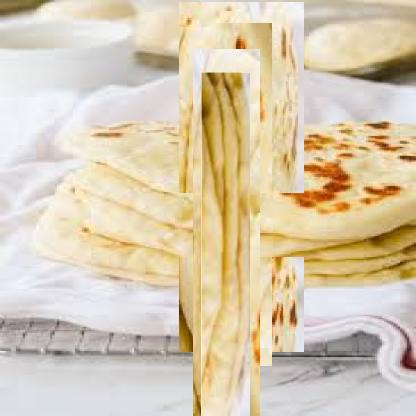naan: (122, 58, 360, 296), (114, 127, 338, 351), (118, 155, 333, 370), (144, 94, 344, 294), (73, 193, 361, 257)
